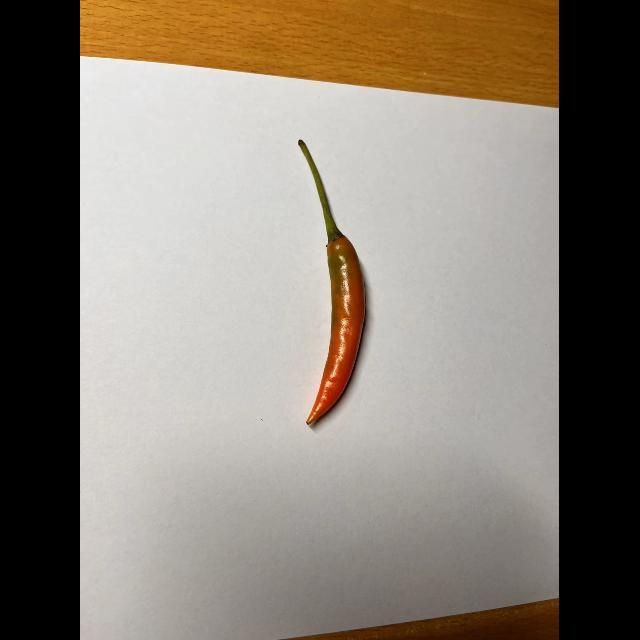chili_pepper: (279, 139, 380, 425)
